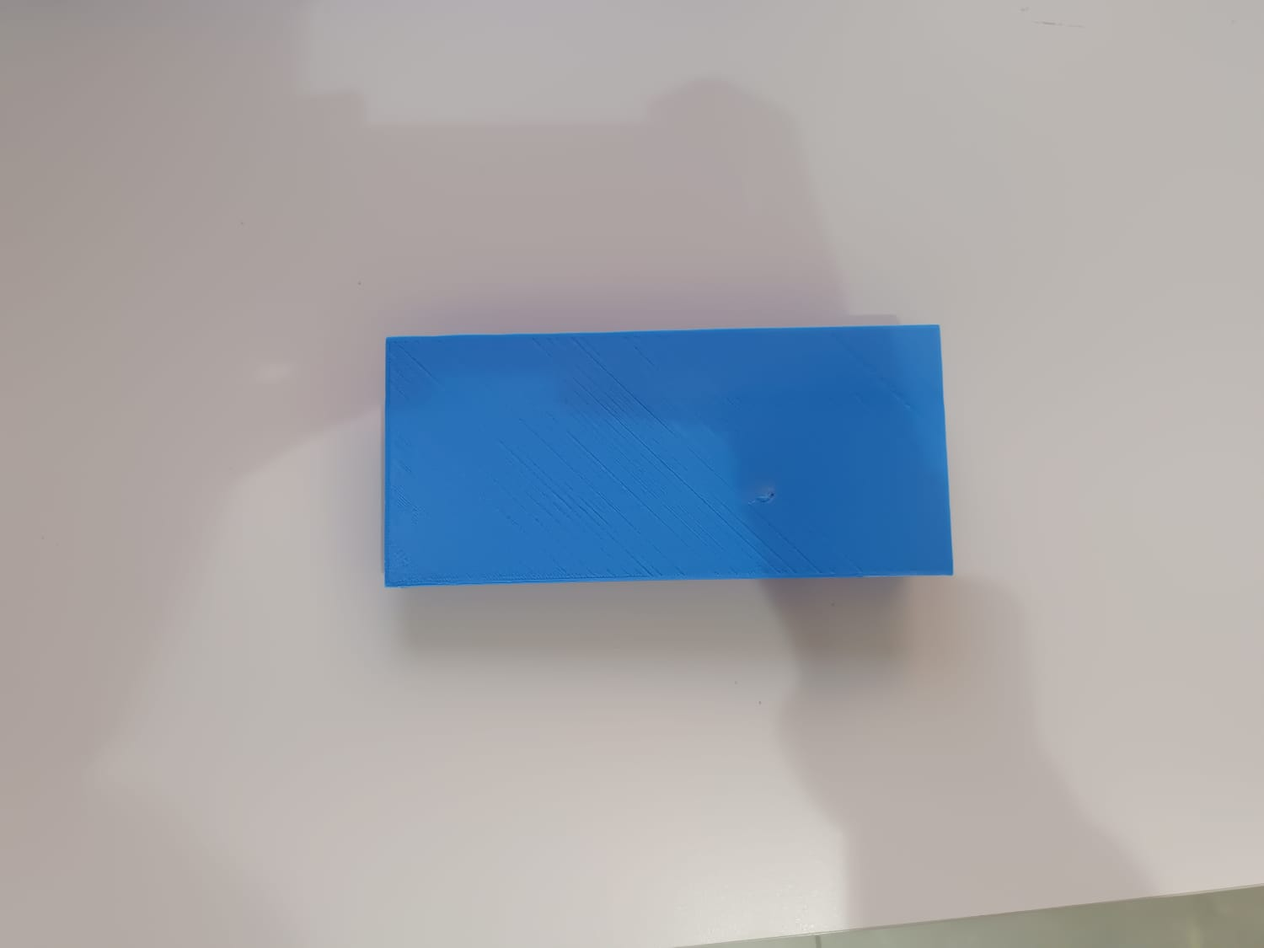Rectangular: (377, 316, 960, 594)
